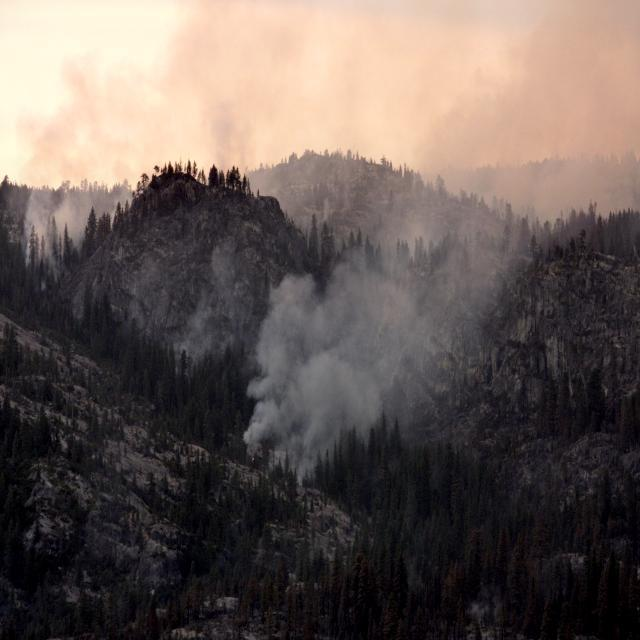Smoke: (224, 125, 571, 468), (17, 146, 136, 282)
